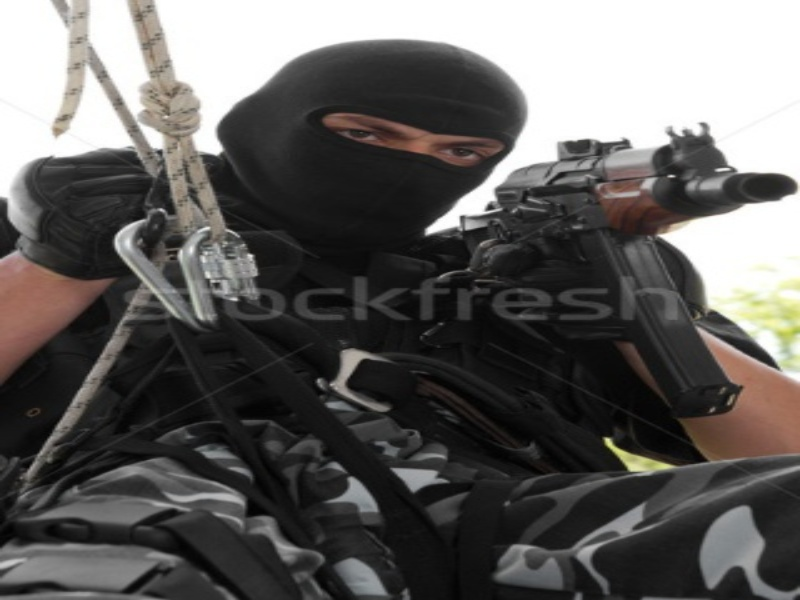person: (1, 37, 800, 600)
weapon: (459, 123, 798, 418)
